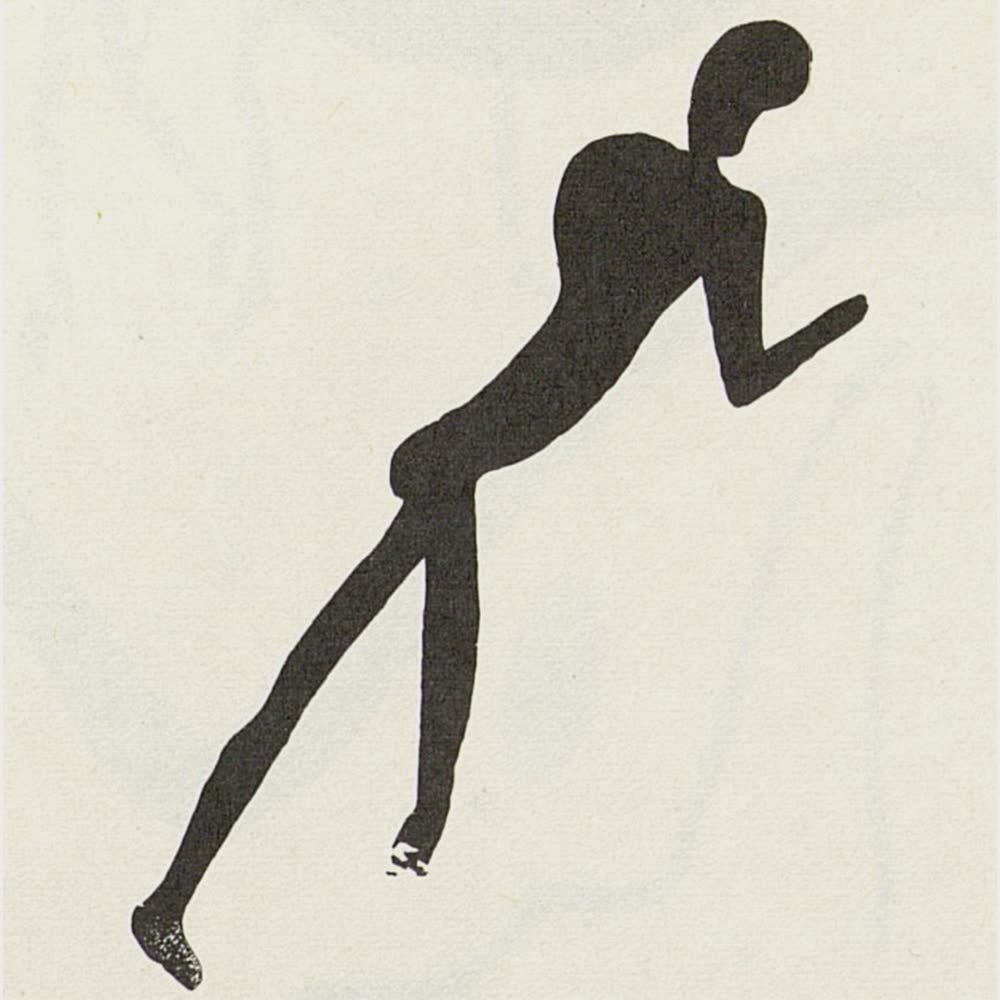man: (128, 16, 877, 994)
